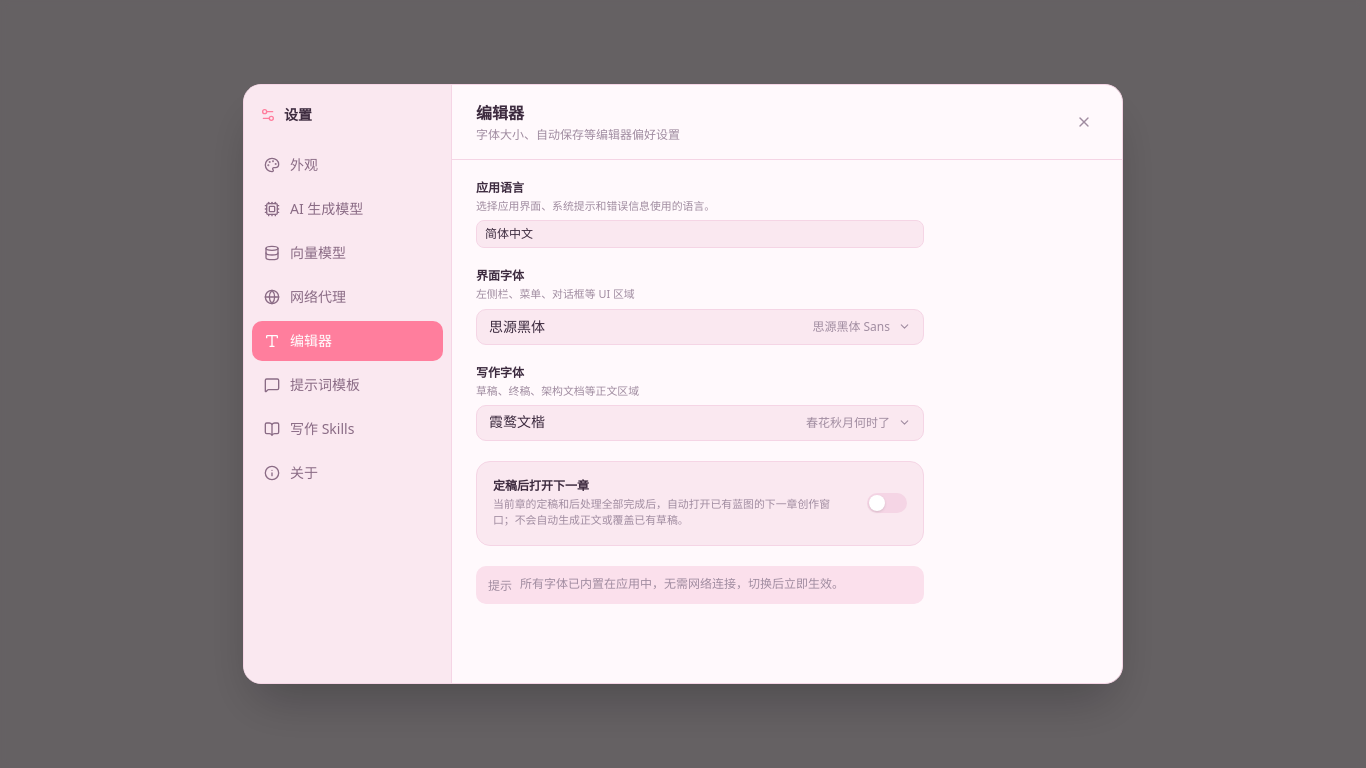
Test: settings persistence truthfulness › rolls back the auto-open-next setting when persistence fails
Click the switch named "定稿后打开下一章" at (887, 503), box x1=867 y1=493 x2=907 y2=513
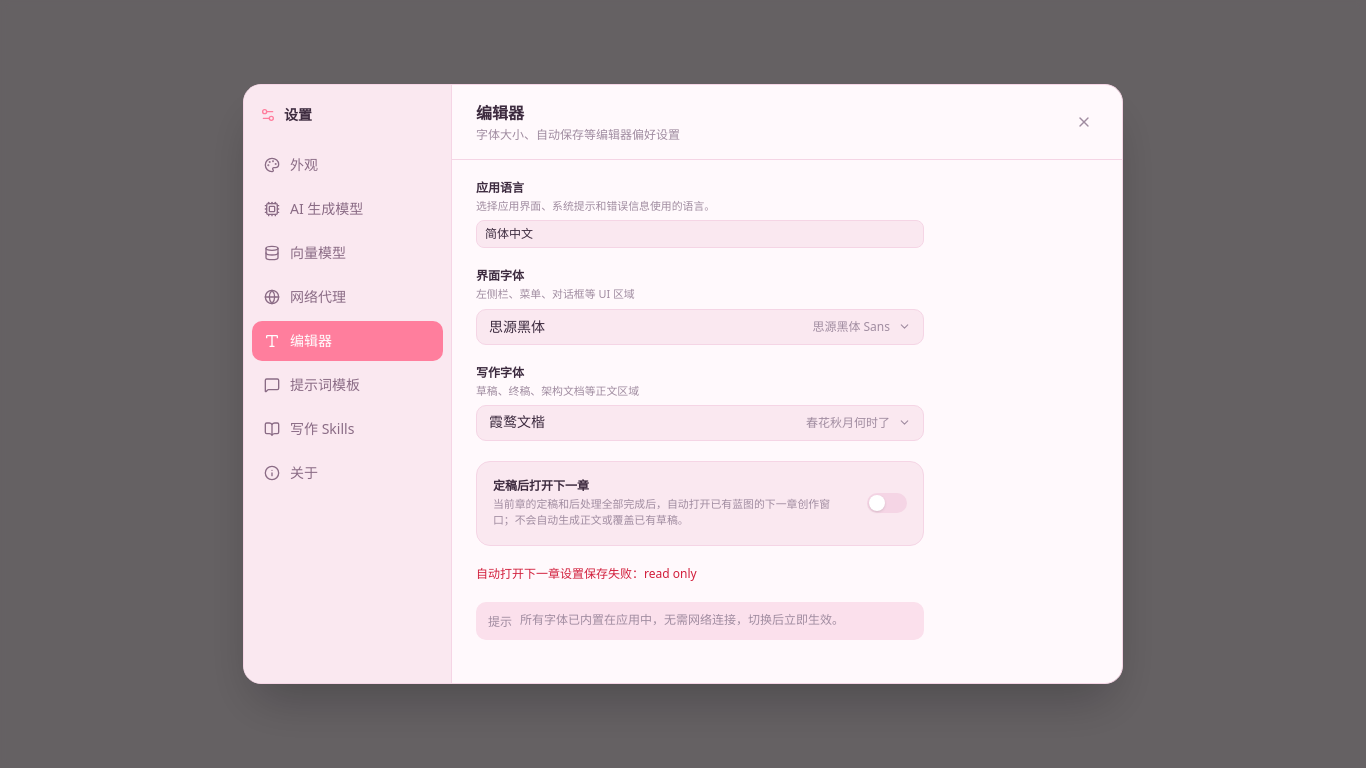
Result: the text "自动打开下一章设置保存失败：read only" is shown at x1=476 y1=565 x2=697 y2=582
